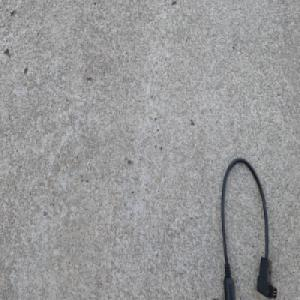Wire: (218, 155, 277, 300)
